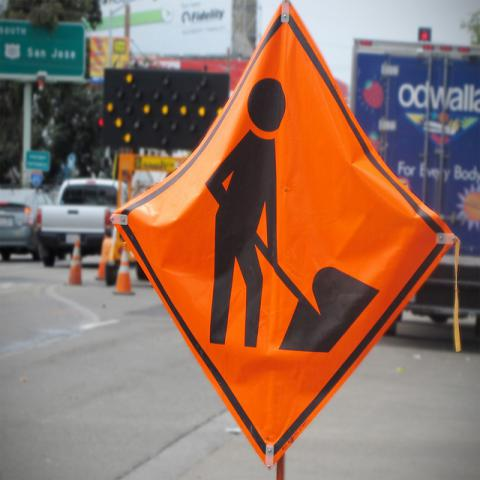car: (2, 188, 52, 263)
truck: (352, 37, 477, 313), (33, 180, 127, 269)
